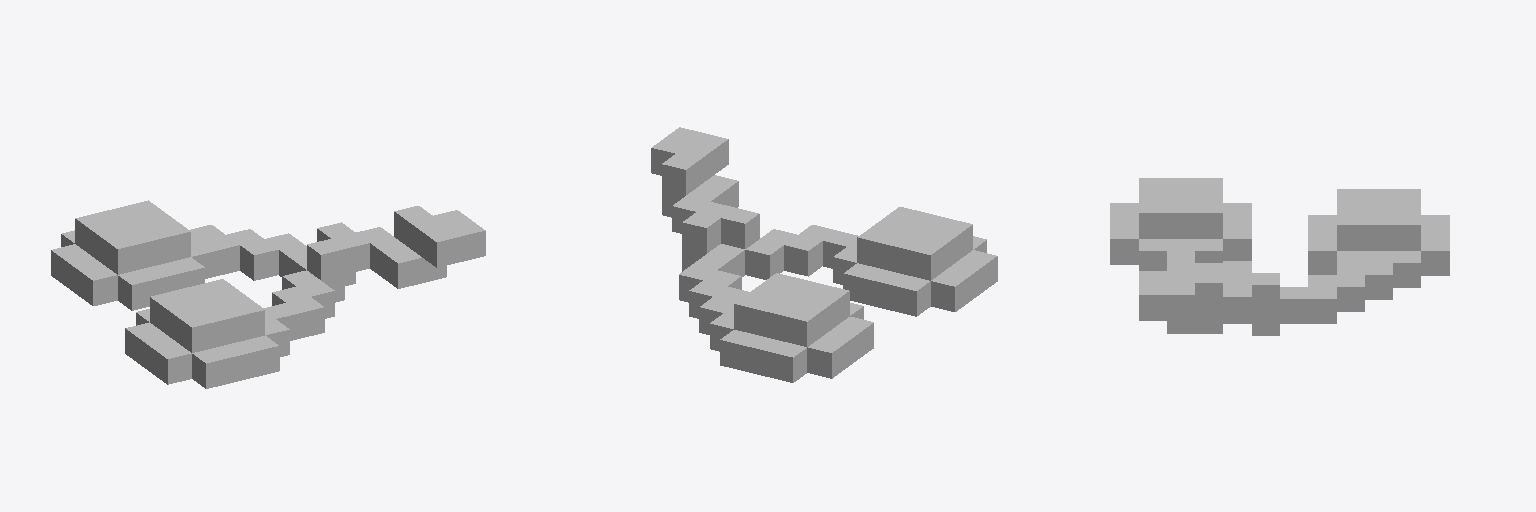
The model's file is Cherry.obj.
3 views of the same model, side by side, from view 1: azimuth 30°, elevation 25°; view 2: azimuth 150°, elevation 25°; view 3: azimuth 270°, elevation 25° (orthographic).
Size of the model in its own units: 13 by 3 by 12.